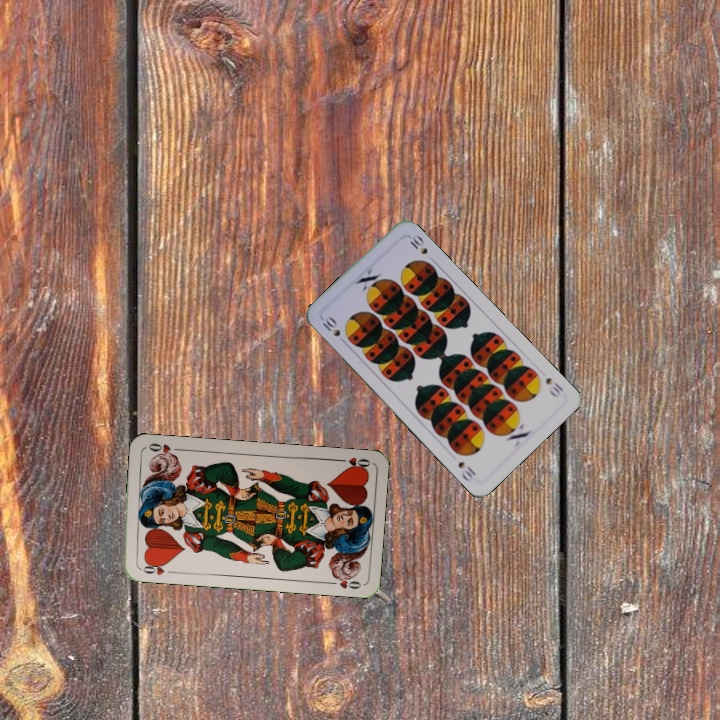HO: (135, 558, 176, 578), (332, 453, 373, 472)
S10: (318, 312, 343, 339), (541, 373, 566, 400)
